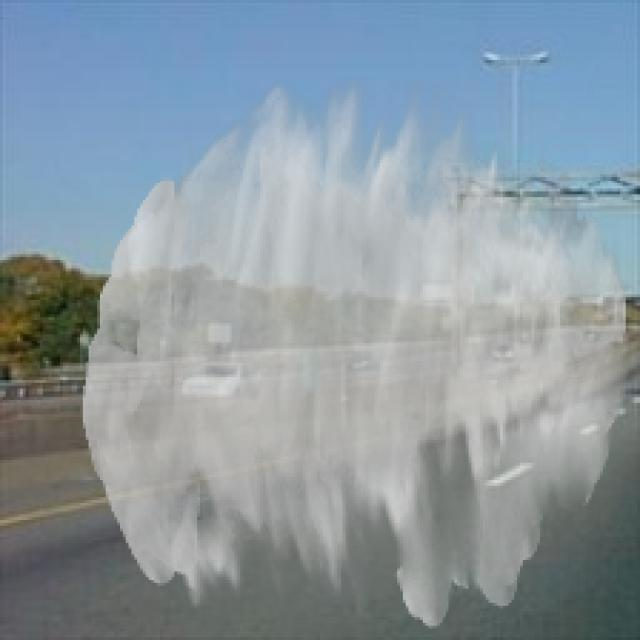Smoke: (82, 77, 628, 629)
